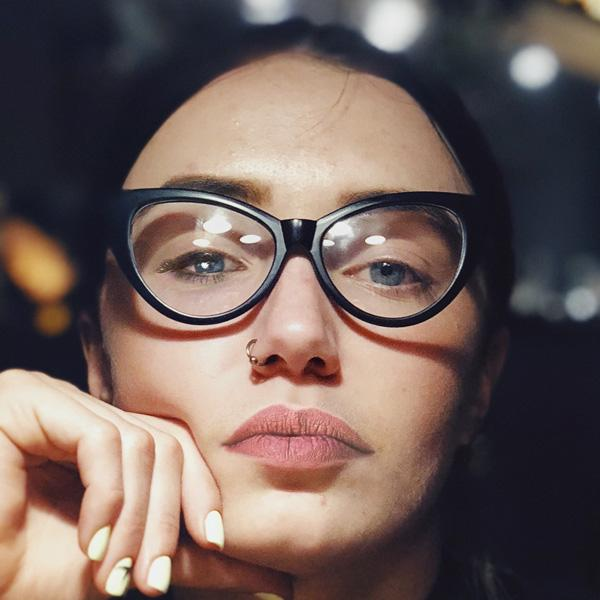Eyes: (150, 228, 255, 298), (331, 242, 442, 305)
